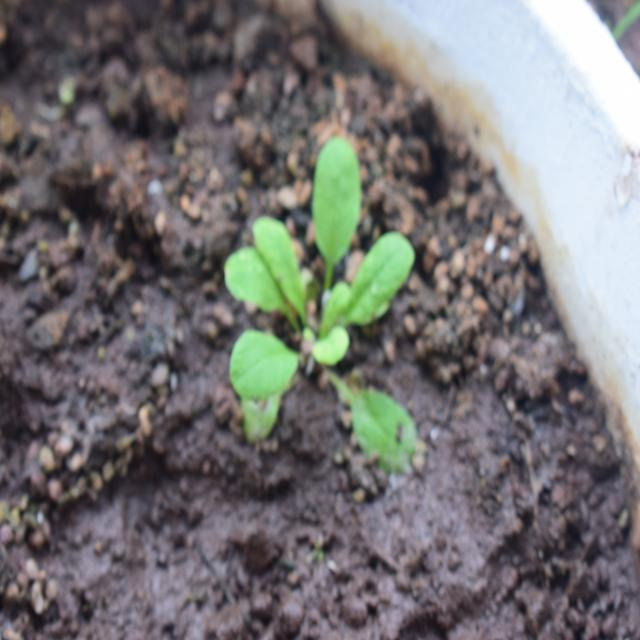Shepherd_Purse: (224, 135, 454, 470)
